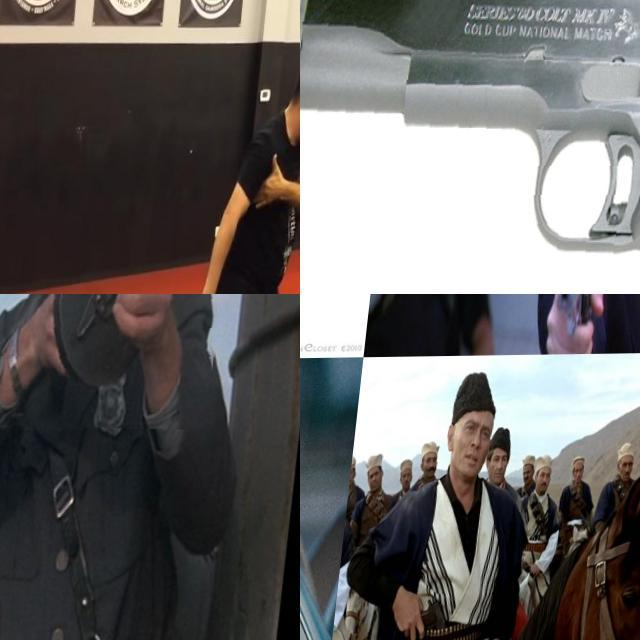gun-knife-thesis - v11 Yolov5 augmented: (300, 0, 640, 294), (0, 294, 252, 468), (300, 294, 457, 442), (403, 568, 482, 640), (540, 294, 621, 362), (300, 417, 327, 544)
